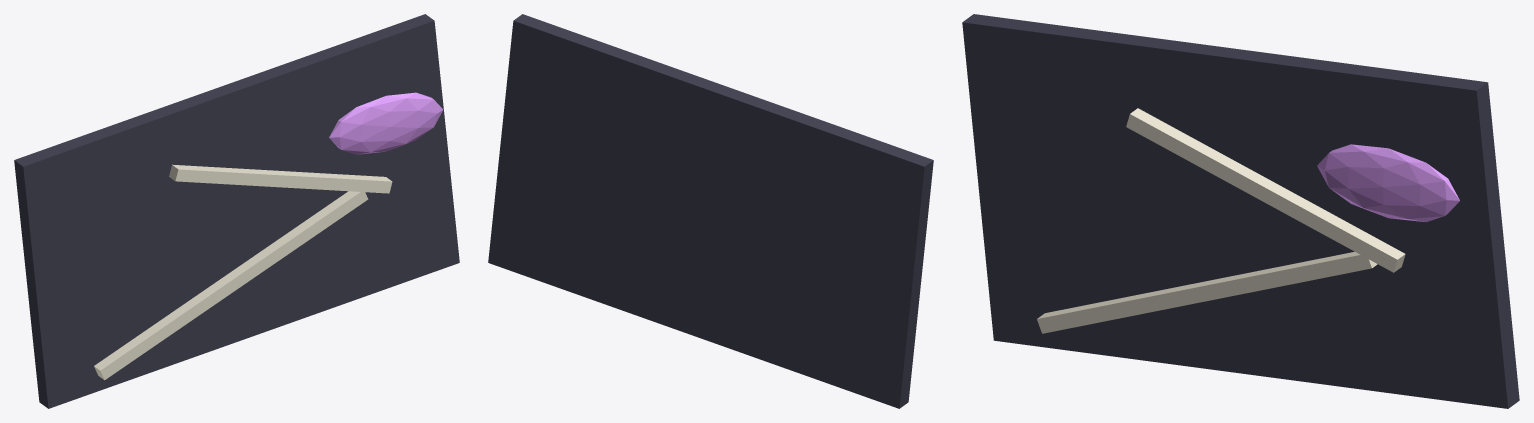
File: 02_weathering_wear_overlay_2.glb
3 views of the same model, side by side, from view 1: azimuth 30°, elevation 25°; view 2: azimuth 150°, elevation 25°; view 3: azimuth 330°, elevation 25° (orthographic). The views are drawn at different scales.
Parts seen in each view (by area): view 1: wear_plate, scratch_a, rust_or_moss_spot, scratch_b; view 2: wear_plate; view 3: wear_plate, rust_or_moss_spot, scratch_b, scratch_a.
Part boxes in pixels (bbox=[...]): wear_plate: bbox=[14, 14, 459, 408]; scratch_a: bbox=[94, 191, 368, 380]; rust_or_moss_spot: bbox=[329, 92, 443, 154]; scratch_b: bbox=[169, 164, 392, 193]; wear_plate: bbox=[488, 14, 933, 408]; wear_plate: bbox=[962, 14, 1519, 408]; rust_or_moss_spot: bbox=[1317, 144, 1459, 221]; scratch_b: bbox=[1126, 108, 1405, 272]; scratch_a: bbox=[1037, 251, 1377, 333].
Size of the model in its own units: 1.37 by 0.8832 by 0.134.
